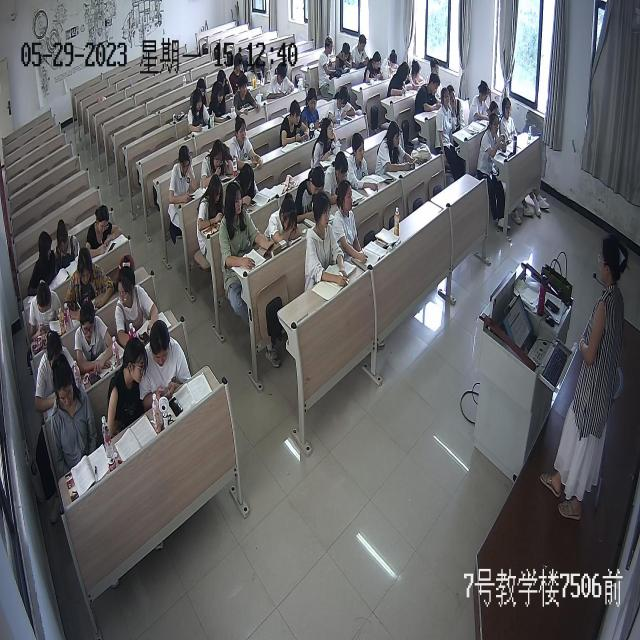distracted: (49, 358, 96, 462), (114, 261, 161, 345), (107, 338, 147, 432), (29, 230, 58, 291), (53, 218, 80, 266), (300, 87, 326, 135), (318, 36, 335, 83), (333, 43, 353, 75)
focused: (306, 192, 348, 289), (35, 333, 81, 409), (66, 250, 116, 318), (76, 298, 116, 376), (333, 180, 368, 266), (26, 281, 63, 343), (295, 162, 326, 227), (87, 204, 123, 256), (350, 134, 378, 196), (231, 118, 263, 172), (198, 175, 225, 236), (313, 118, 342, 170), (324, 153, 352, 205), (478, 114, 508, 162), (434, 85, 454, 146), (416, 71, 442, 113), (445, 82, 466, 134), (468, 80, 493, 122), (234, 76, 260, 116), (267, 63, 295, 100), (501, 95, 519, 143), (388, 62, 413, 95), (350, 34, 371, 69), (246, 58, 268, 89), (229, 52, 246, 91), (430, 60, 445, 104), (364, 52, 384, 82), (380, 49, 400, 79)
sleep: (266, 193, 307, 246)
using_phone: (218, 182, 276, 270), (140, 323, 193, 409), (375, 120, 419, 175), (168, 146, 198, 208), (199, 142, 236, 190), (279, 99, 311, 148), (325, 85, 355, 125), (234, 164, 259, 210), (187, 90, 213, 132), (406, 59, 431, 93), (215, 67, 235, 103)
